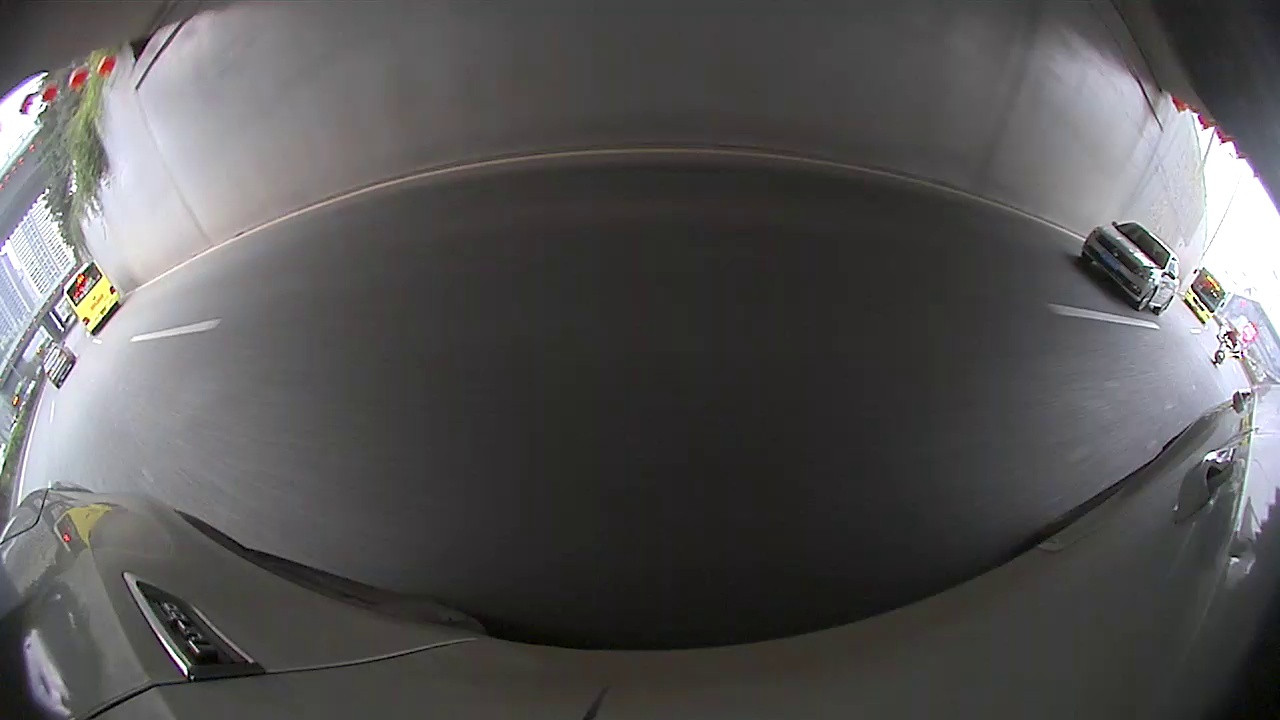bus: (60, 260, 122, 339), (1182, 267, 1223, 324)
car: (1079, 221, 1179, 316), (41, 342, 74, 389)
front: (1134, 289, 1157, 314), (1074, 250, 1096, 271)
rear: (1150, 296, 1175, 319)
rider: (1210, 326, 1242, 368)
